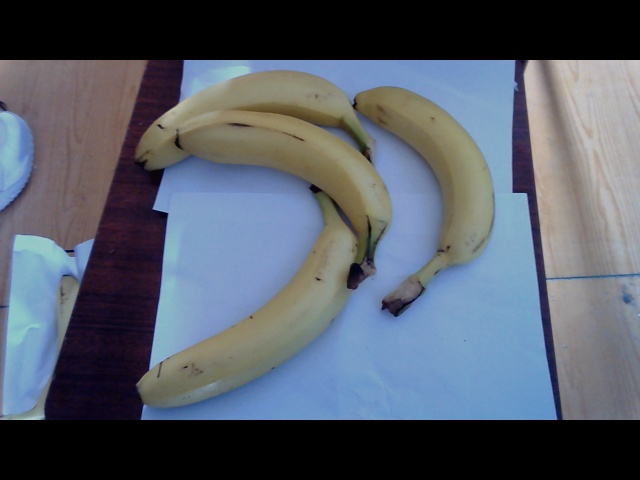banana: (133, 51, 386, 226), (163, 229, 362, 413), (377, 83, 510, 313)
